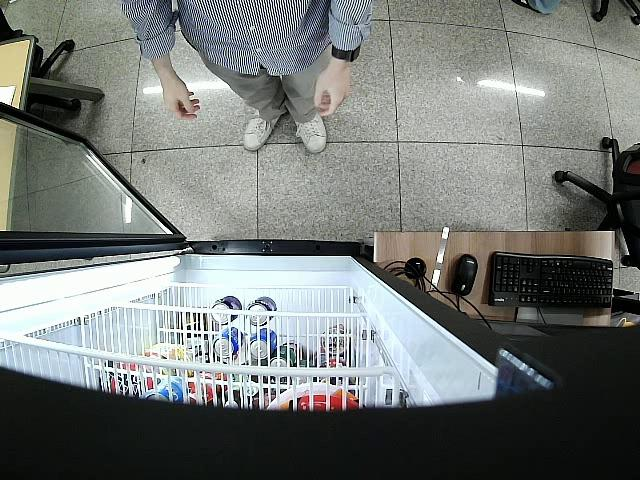00_hand: (311, 73, 350, 118), (163, 85, 201, 123)
